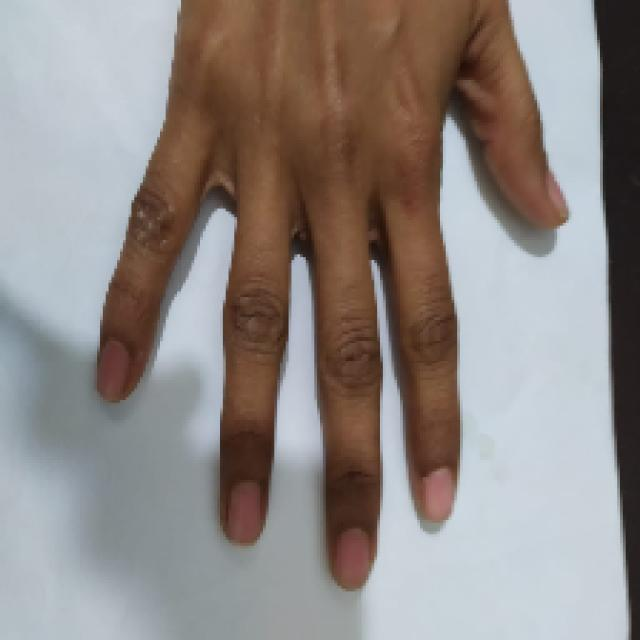Nail: (226, 480, 263, 543), (334, 529, 371, 589), (96, 340, 130, 401), (421, 467, 456, 521), (548, 168, 571, 221)
